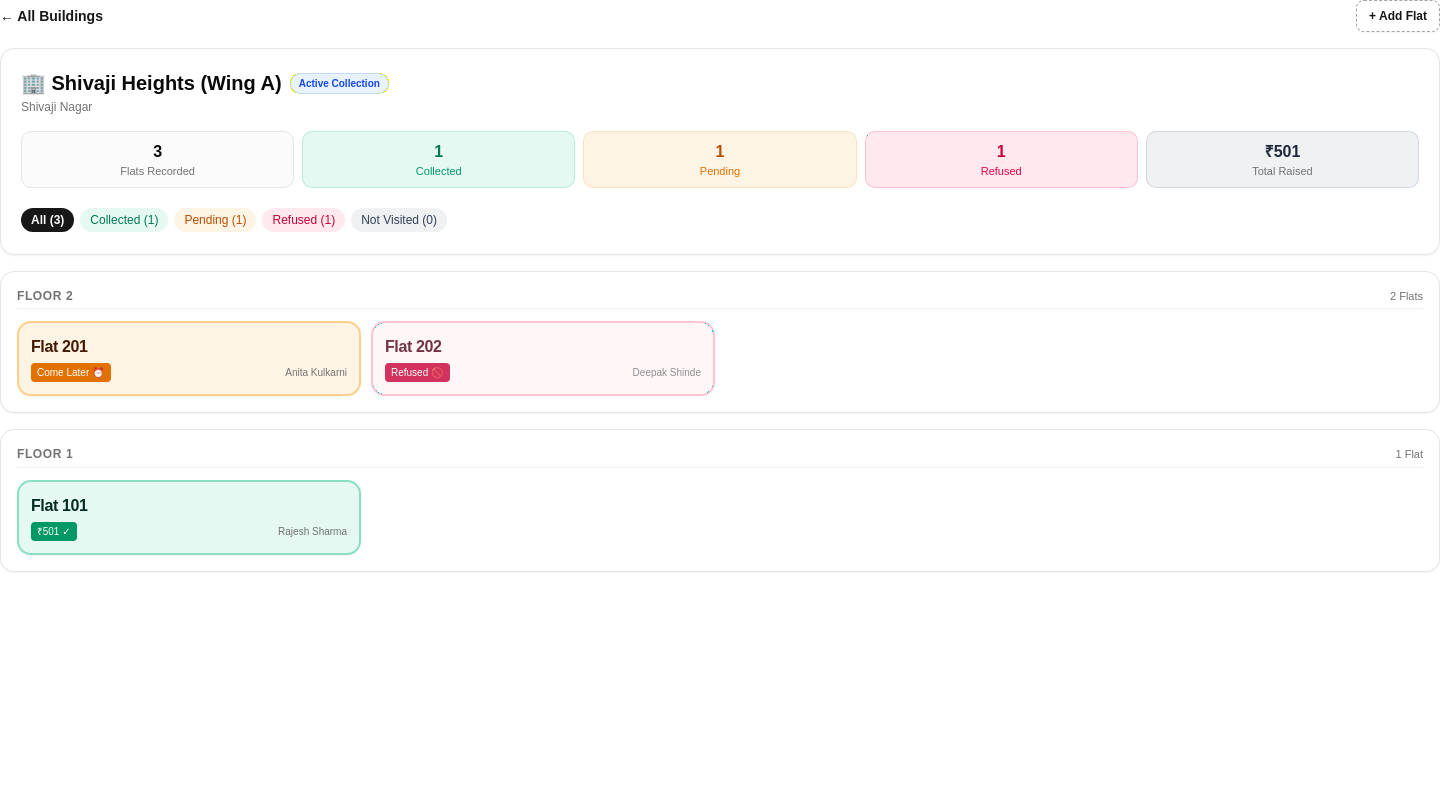
Scenario: Phase 2I: BuildingFlatGrid Progressive Discovery Component › opens Add Flat modal and validates required fields and duplicate prevention
Step 1. Click the button "+ Add Flat" → (1398, 16), box [1356,0,1439,32]
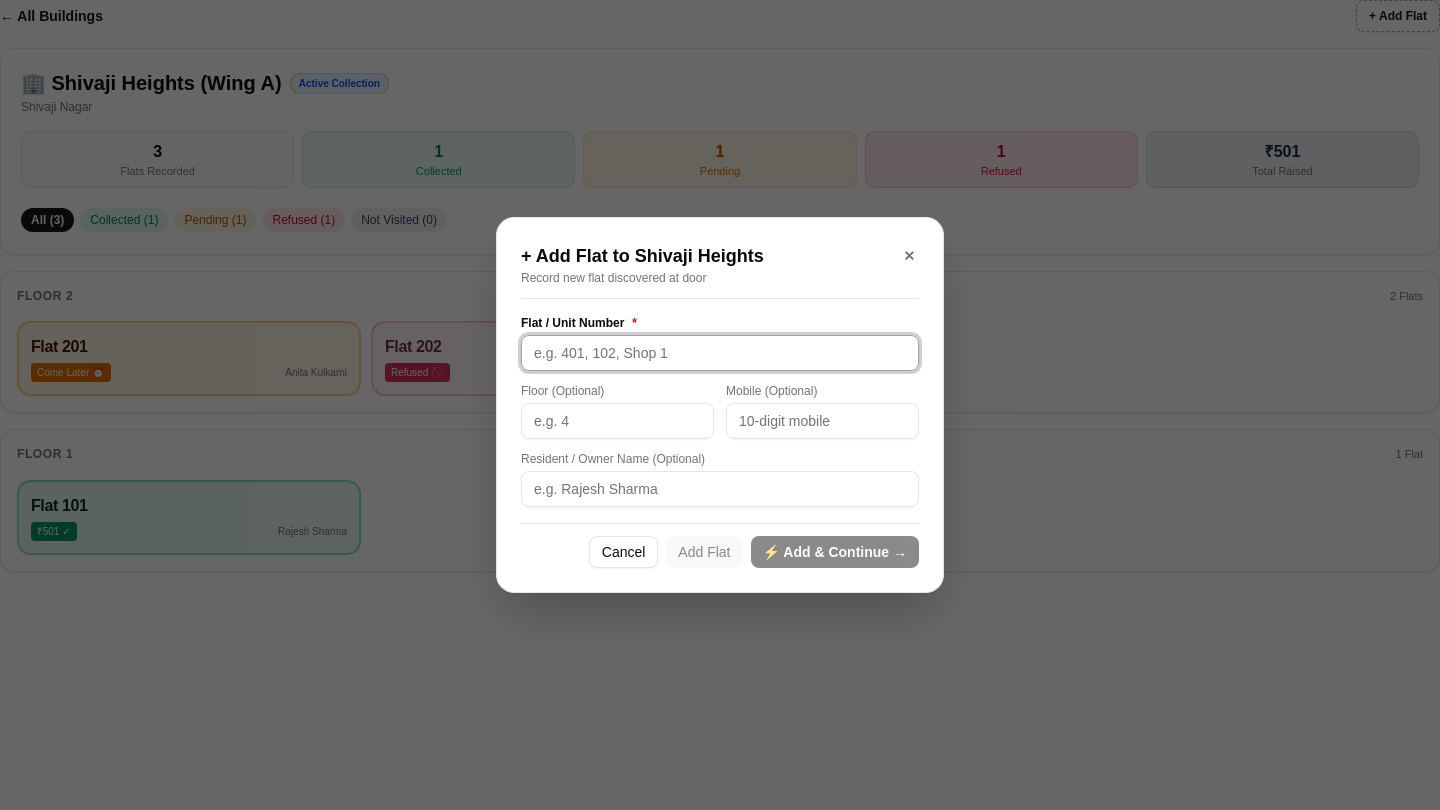
Expected: the heading "+ Add Flat to Shivaji Heights" is shown, [521,242,764,270]
Note: Enter duplicate flat 101
Step 2. Type "101" into the field labelled "Flat / Unit Number *" → (720, 353), box [521,335,919,371]
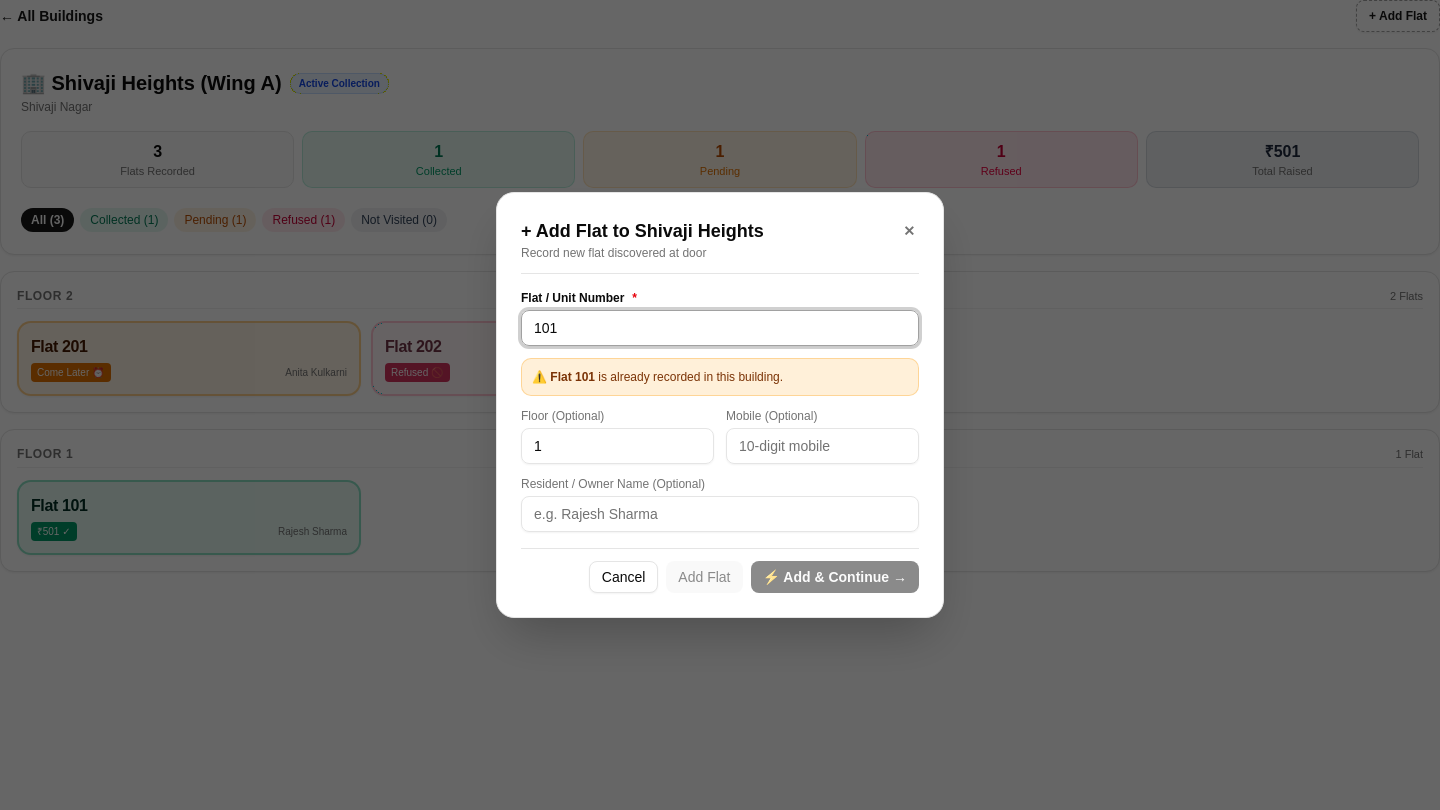
Expected: the text "⚠️ Flat 101 is already recorded in this building." is shown, [521,358,919,396]
Note: Enter new flat 301
Step 3. Replace the text in the field labelled "Flat / Unit Number *" with "301" → (720, 328), box [521,310,919,346]
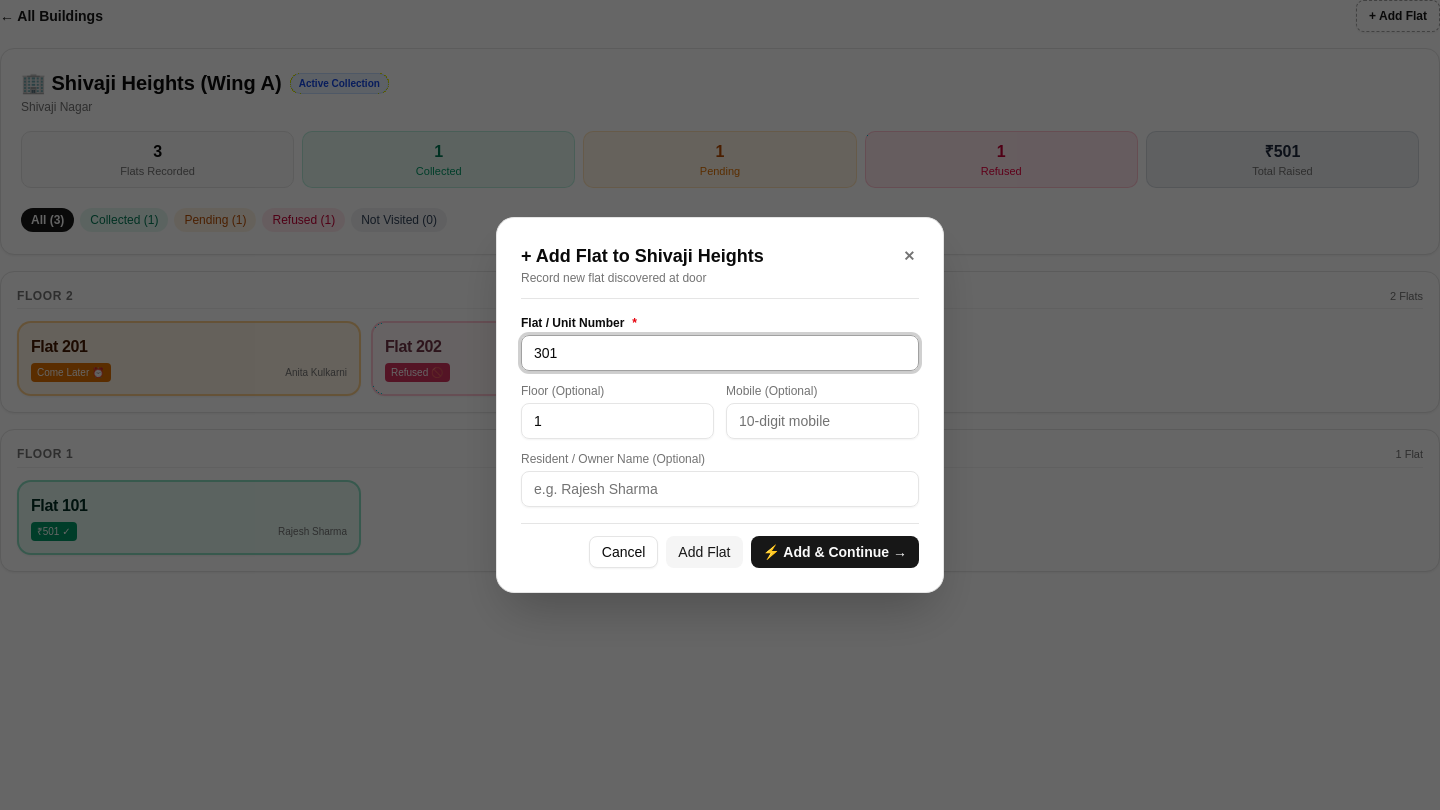
Expected: the text "already recorded in this building" is gone
